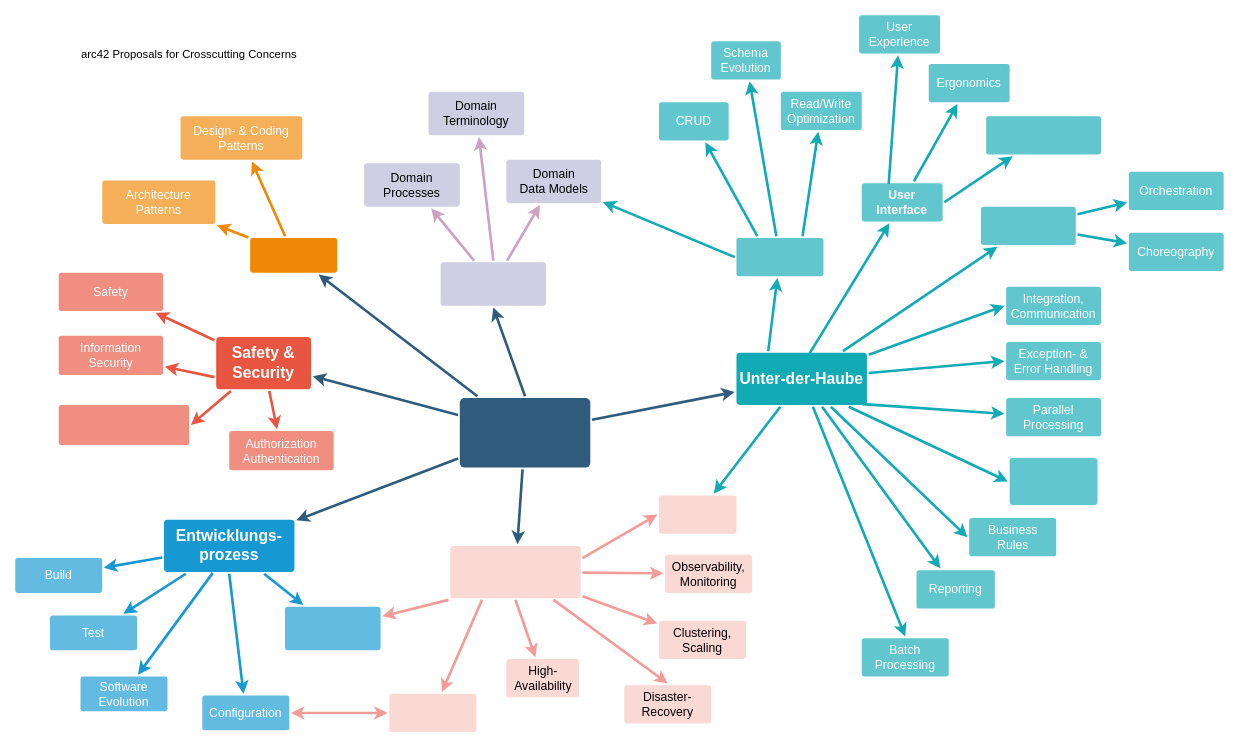
Image size: 1238x746. Some labels were removed from this diagram. Here are the shapes that lost their labels. From the top down, the centre of each, then its label:
point (1043, 135): Internationalization, Localization
point (1027, 225): Process Control
point (293, 255): Patterns
point (779, 257): Persistence
point (492, 283): Fachliche Konzepte
point (123, 425): Safety & Sec. Standards Compliance
point (524, 432): Querschnittliche Konzepte
point (1053, 481): Plausibility Checks / Validation
point (697, 514): Logging, Tracing
point (515, 571): Betrieb & Administration
point (332, 628): Deployment, Release
point (432, 712): Provisioning, Setup
